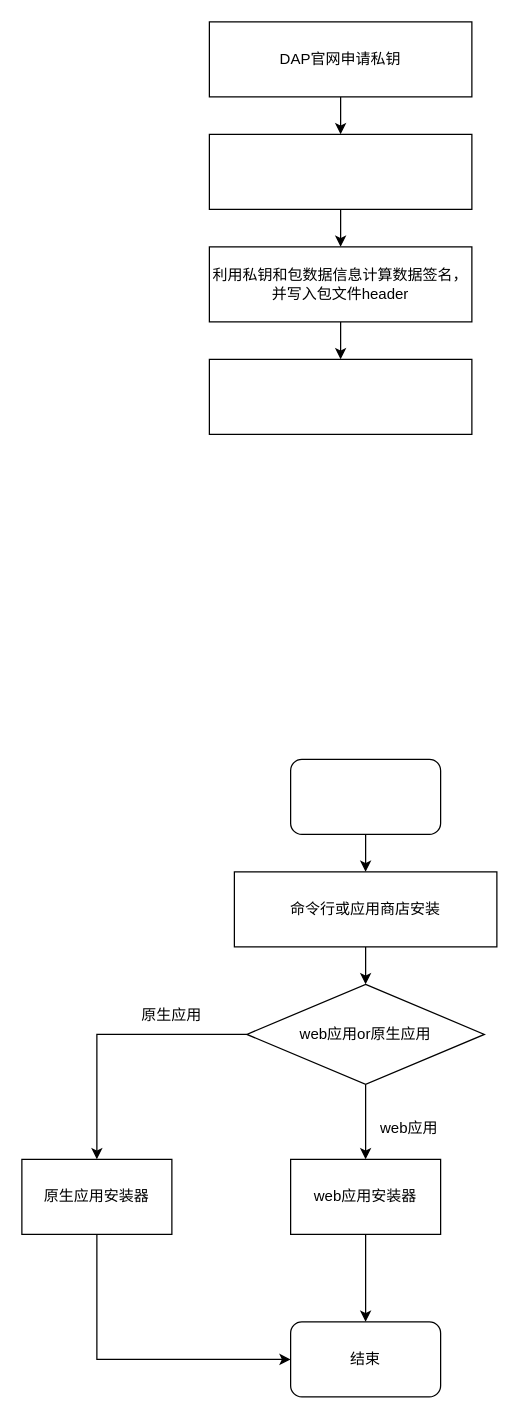
Some shapes in this 519 by 1419 pixel diagram are drawn without their labels. The box of each missing label's shape, as (x1, y1, x2, y2) in pixels:
开始: (289, 758, 441, 834)
根据包规范进行打包: (208, 133, 472, 209)
用命令行或DAP官网上传包到服务器: (208, 358, 472, 434)
